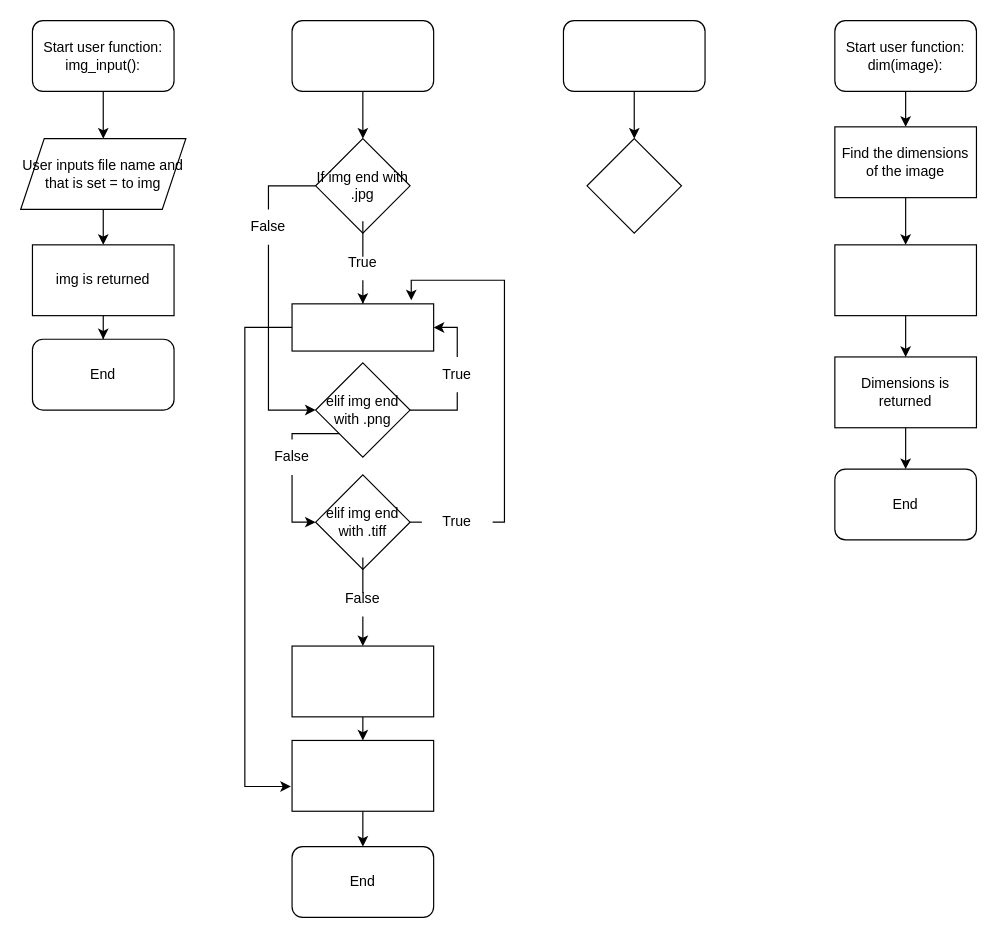
Image size: 997x938. Some labels were removed from this diagram. The shapes that lost their labels are listed below. From the top down, each one's box as (x1, y1, x2, y2) in pixels, then its label:
(291, 19, 434, 91): Start user function: image_valid(img):
(562, 19, 705, 91): Start user function: image_tester(img):
(834, 244, 976, 316): Computer prints dimensions of the image
(291, 303, 434, 351): Image is Valid
(291, 645, 434, 717): Image isn't valid
(291, 739, 434, 811): image is returned
